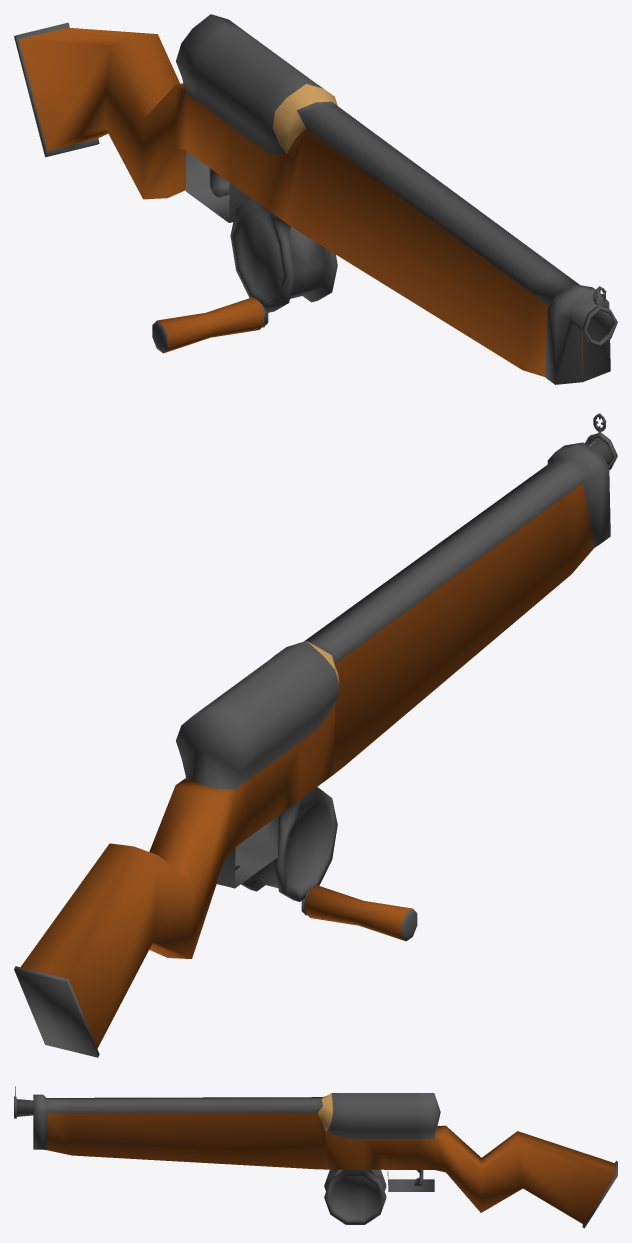
File: harpoonweapon.fbx
3 views of the same model, one above another, from view 1: azimuth 30°, elevation 25°; view 2: azimuth 150°, elevation 25°; view 3: azimuth 270°, elevation 25° (orthographic). The views are drawn at different scales.
Parts seen in each view (by area): view 1: gun, manivela; view 2: gun, manivela; view 3: gun.
Part boxes in pixels (x1,y1,x2,y2): gun: [14, 14, 617, 384]; manivela: [152, 297, 268, 353]; gun: [14, 413, 617, 1057]; manivela: [301, 885, 417, 941]; gun: [14, 1086, 617, 1228].
Size of the model in its own units: 324 by 508 by 1946.
